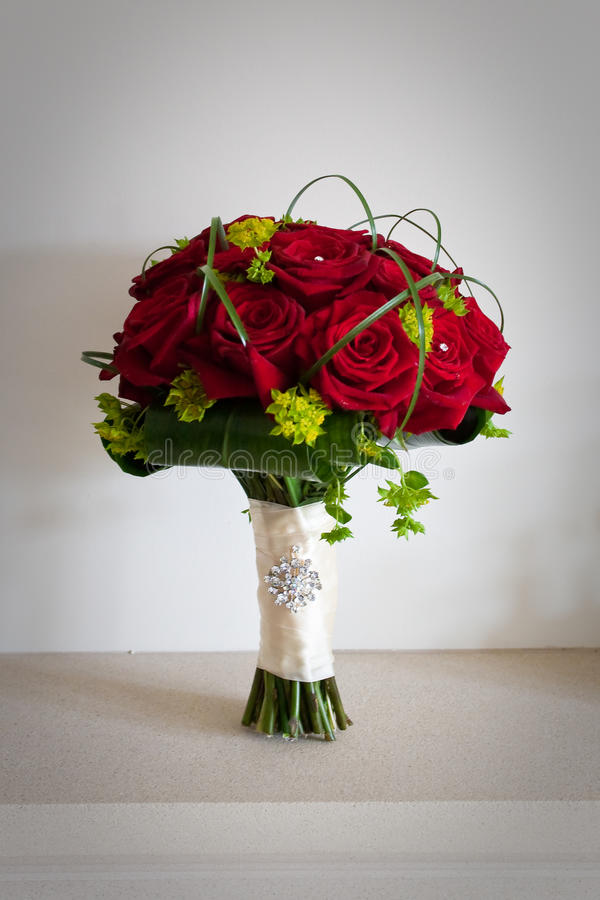RedRose: (320, 291, 423, 431), (202, 284, 315, 404), (403, 319, 501, 436), (114, 283, 220, 391), (436, 289, 520, 383), (267, 211, 367, 289), (357, 230, 461, 293), (122, 236, 220, 301), (187, 211, 285, 274)
